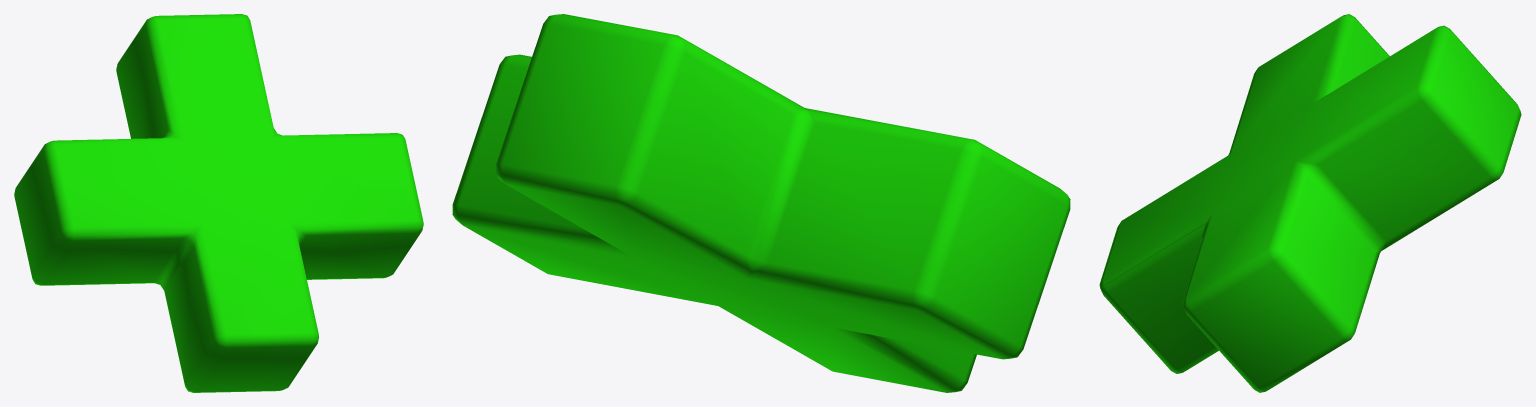
File: healingo.fbx
3 renders of one model, left to right at view 1: azimuth 30°, elevation 25°; view 2: azimuth 150°, elevation 25°; view 3: azimuth 270°, elevation 25°, orthographic. The views are drawn at different scales.
Parts seen in each view (by area): view 1: healingo; view 2: healingo; view 3: healingo.
Part boxes in pixels (x1,y1,x2,y2): healingo: (14, 14, 423, 392); healingo: (452, 14, 1070, 392); healingo: (1099, 14, 1521, 392).
Bounding box in the file's own units: 1.07 × 0.8675 × 0.9764.
Materials: 1 (1 with a texture image).
